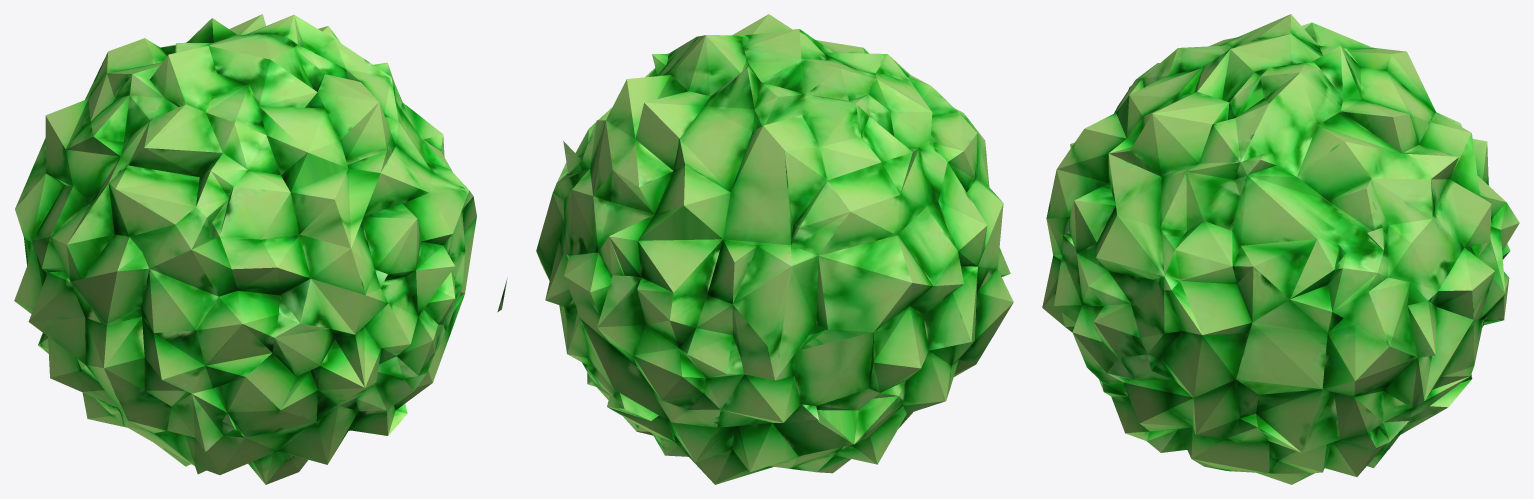
File: bush.glb
The picture shows the model from 3 angles, left to right: view 1: azimuth 30°, elevation 25°; view 2: azimuth 150°, elevation 25°; view 3: azimuth 270°, elevation 25°; orthographic projection.
Visible parts, largest first — view 1: tmpha66ipwi.ply; view 2: tmpha66ipwi.ply; view 3: tmpha66ipwi.ply.
Boxes of the visible parts, x1,y1,x2,y2 form: tmpha66ipwi.ply: [14, 14, 507, 484]; tmpha66ipwi.ply: [536, 14, 1013, 484]; tmpha66ipwi.ply: [1042, 14, 1519, 484].
Bounding box in the file's own units: 1.94 × 1.92 × 2.
1 material, 1 textured.
